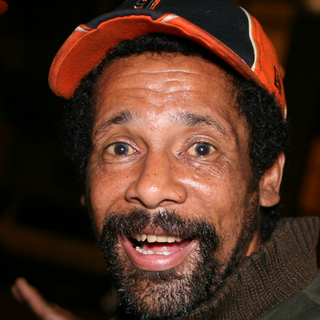eye: (173, 134, 222, 163), (97, 135, 144, 164)
